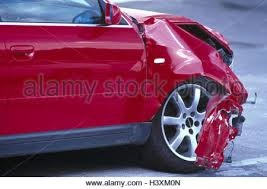Dent: (143, 17, 227, 82)
Smashed: (189, 48, 247, 172)
